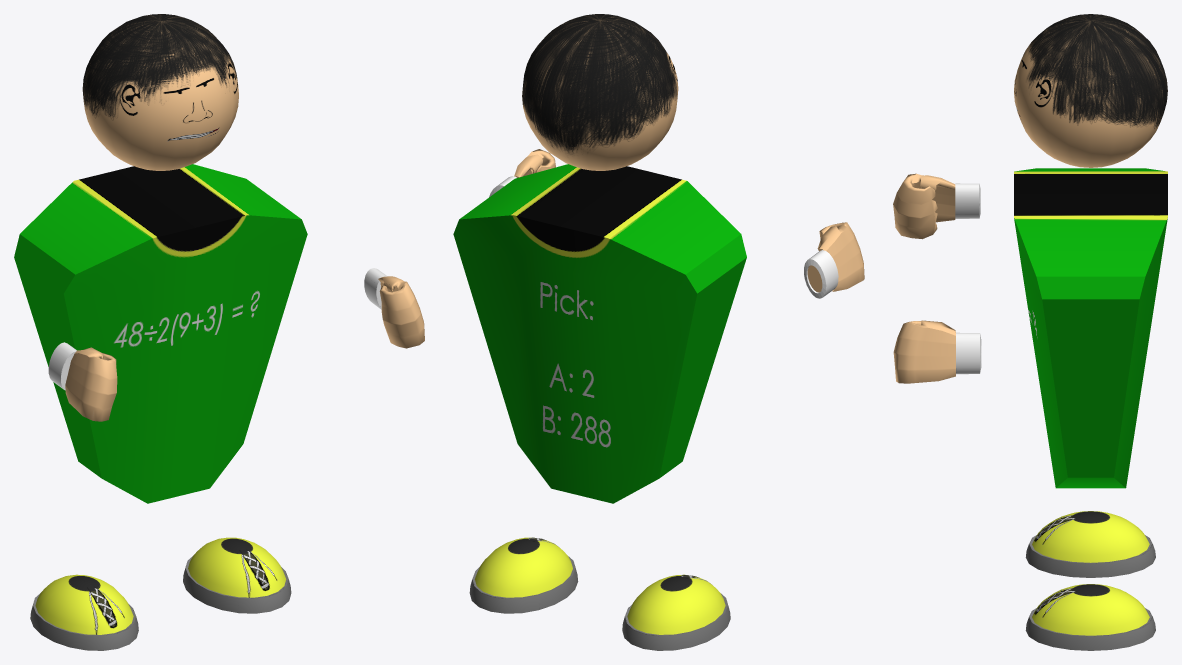
Rendered from Character_Math.obj.
The picture shows the model from 3 angles, left to right: view 1: azimuth 30°, elevation 25°; view 2: azimuth 150°, elevation 25°; view 3: azimuth 270°, elevation 25°; orthographic projection. The views are drawn at different scales.
Visible parts, largest first — view 1: Character_Math; view 2: Character_Math; view 3: Character_Math.
Boxes of the visible parts, bbox=[...] form: Character_Math: bbox=[14, 14, 424, 650]; Character_Math: bbox=[453, 14, 864, 650]; Character_Math: bbox=[893, 14, 1167, 650].
Size of the model in its own units: 1.26 by 2.05 by 0.8921.
Materials: 4 (4 with a texture image).
